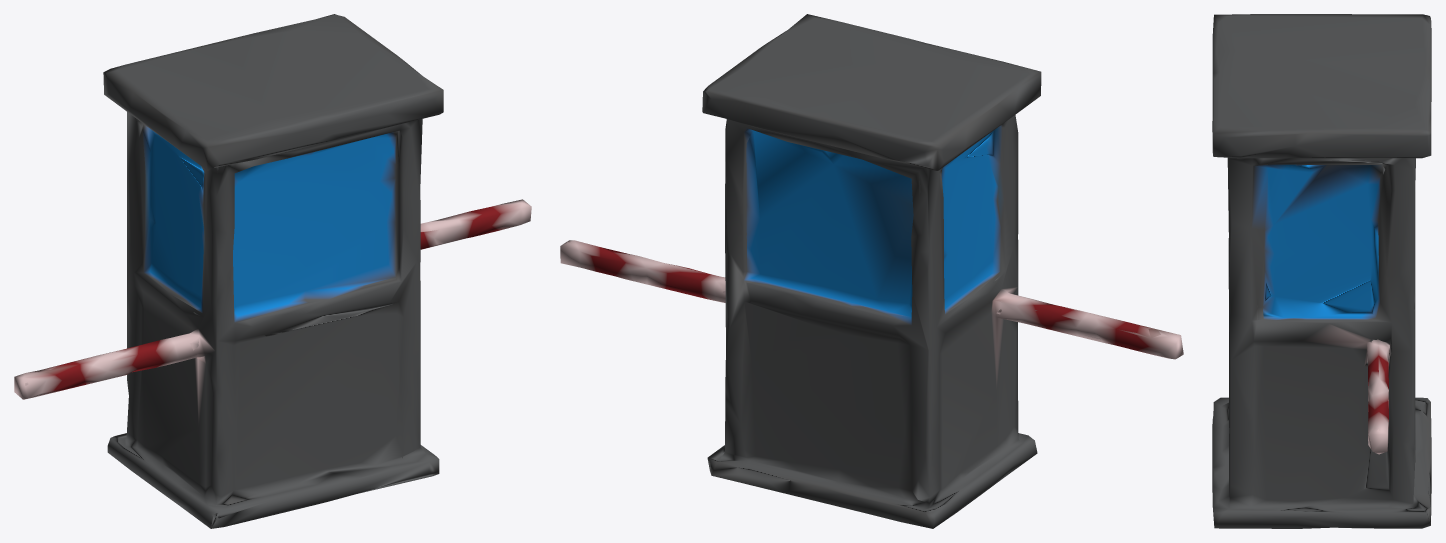
Rendered from gen3d-toll-booth-lod0.glb.
3 views of the same model, side by side, from view 1: azimuth 30°, elevation 25°; view 2: azimuth 150°, elevation 25°; view 3: azimuth 270°, elevation 25° (orthographic). The views are drawn at different scales.
Parts seen in each view (by area): view 1: part_0; view 2: part_0; view 3: part_0.
Part boxes in pixels (x1,y1,x2,y2): part_0: [14, 14, 531, 528]; part_0: [560, 14, 1183, 528]; part_0: [1212, 14, 1431, 528].
Bounding box in the file's own units: 1.53 × 1 × 0.4978.
